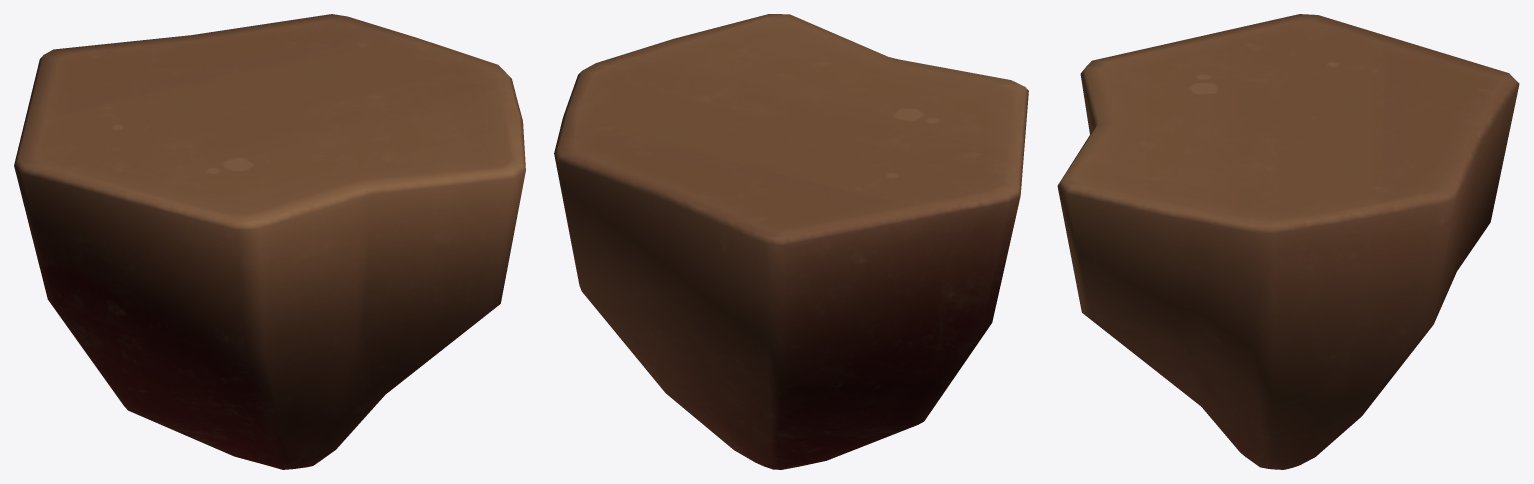
The model's file is FloatingIsland.FBX.
3 renders of one model, left to right at view 1: azimuth 30°, elevation 25°; view 2: azimuth 150°, elevation 25°; view 3: azimuth 270°, elevation 25°, orthographic. The views are drawn at different scales.
Parts seen in each view (by area): view 1: FloatingIsland; view 2: FloatingIsland; view 3: FloatingIsland.
Part boxes in pixels (box(x1,y1,x2,y2)): FloatingIsland: box(14, 14, 525, 469); FloatingIsland: box(554, 14, 1028, 469); FloatingIsland: box(1057, 14, 1519, 469).
Bounding box in the file's own units: 91.62 × 64.75 × 82.79.
